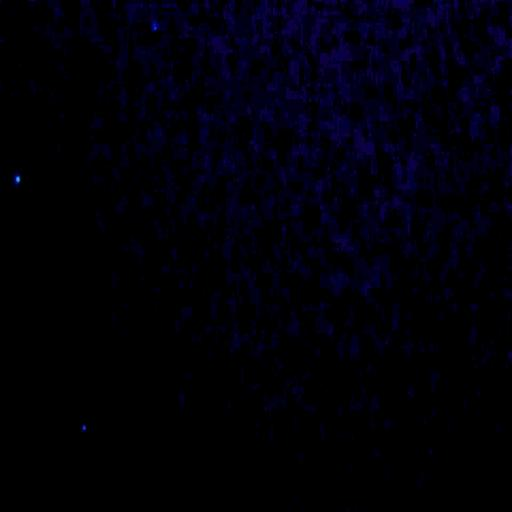object-detection-project: (15, 176, 20, 183)
